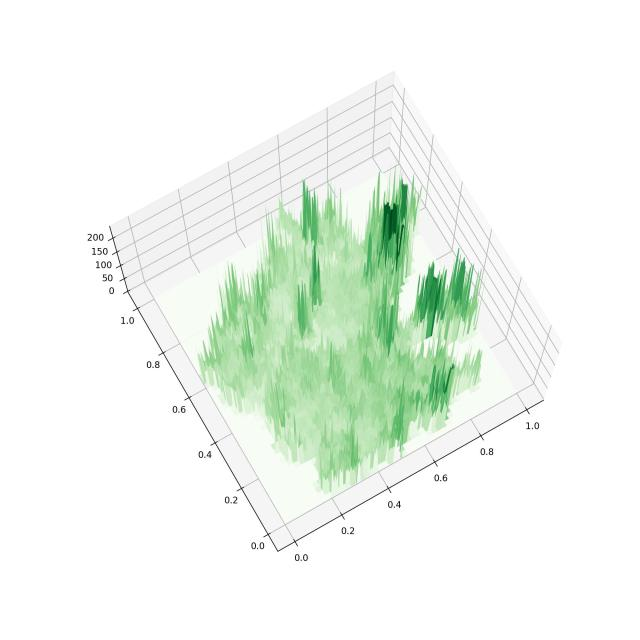fir: (73, 25, 567, 594)
